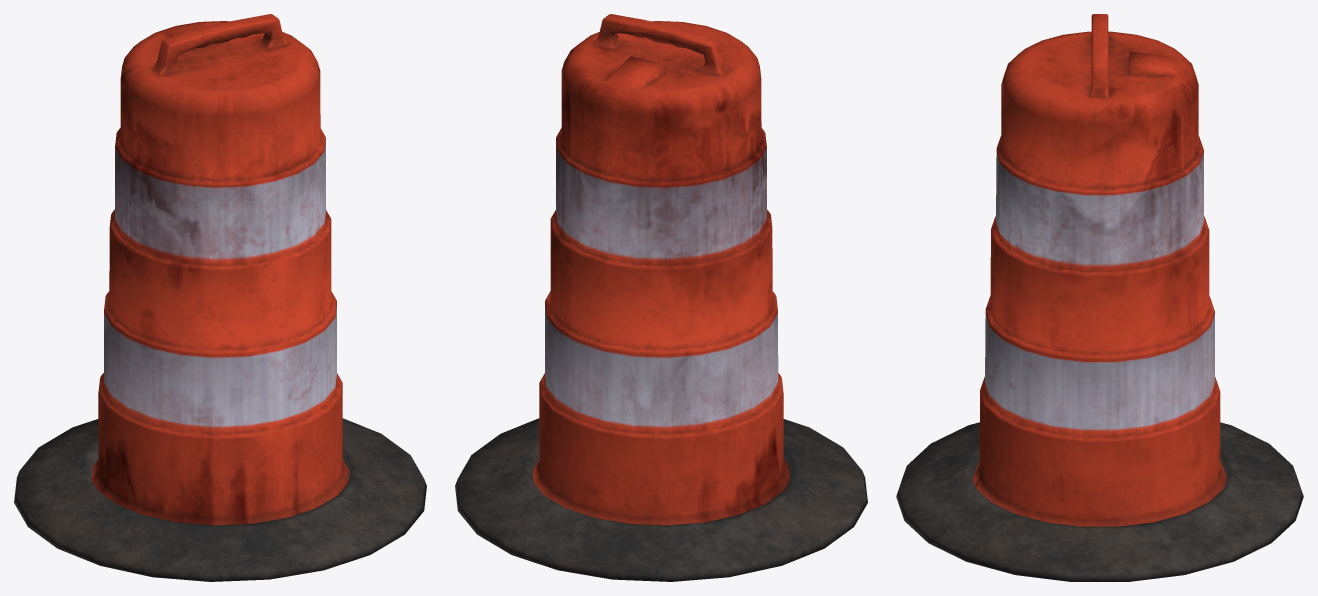
The model's file is drum.glb.
3 views of the same model, side by side, from view 1: azimuth 30°, elevation 25°; view 2: azimuth 150°, elevation 25°; view 3: azimuth 270°, elevation 25° (orthographic).
Parts seen in each view (by area): view 1: drum; view 2: drum; view 3: drum.
Part boxes in pixels (left/top/right/bottom): drum: left=14, top=14, right=426, bottom=581; drum: left=455, top=14, right=867, bottom=581; drum: left=896, top=14, right=1303, bottom=581.
Size of the model in its own units: 0.8321 by 1.05 by 0.8406.
Materials: 2 (2 with a texture image).
